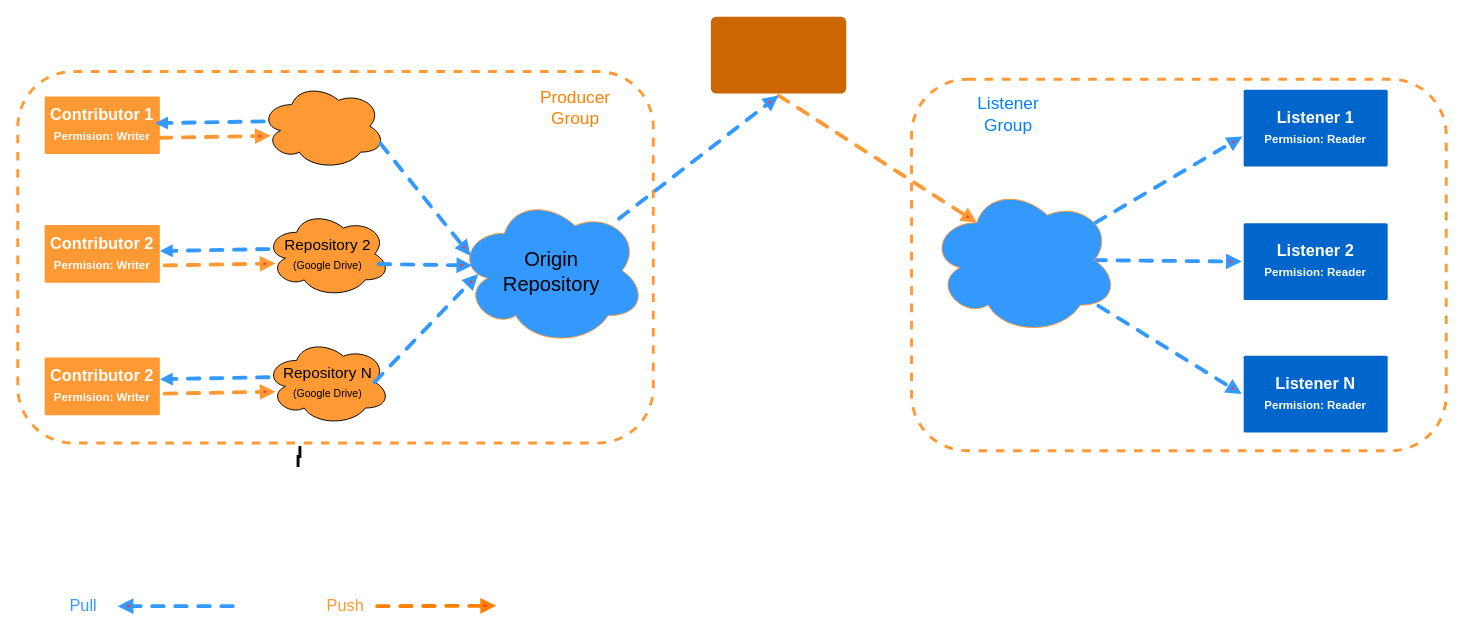
Image size: 1464x633. Some labels were removed from this diagram. The shapes that lost their labels are listed below. From the top down, each one's box as (x1, y1, x2, y2) in pixels, then its label:
(710, 16, 846, 93): Supervisor Permision: Organizer
(260, 82, 385, 169): Repository 1 (Google Drive)
(929, 184, 1118, 335): Shared Repository
